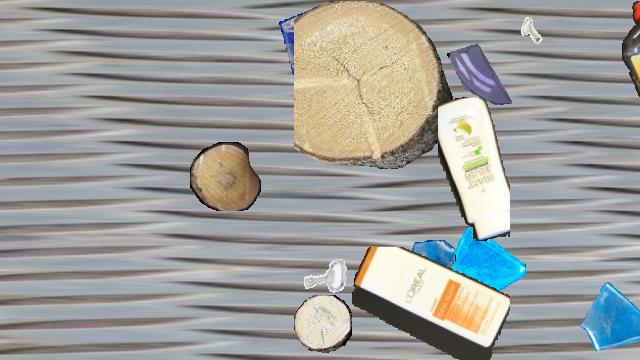glass: (432, 225, 526, 319), (279, 1, 371, 93), (446, 38, 516, 108), (580, 279, 640, 359), (396, 240, 456, 300), (635, 281, 640, 359)
metal: (351, 93, 409, 151), (298, 248, 354, 304), (513, 12, 551, 50)
plastic: (352, 247, 510, 359), (438, 97, 510, 241), (621, 1, 640, 145)
wood: (294, 1, 452, 169), (190, 142, 260, 210), (294, 295, 352, 353)
